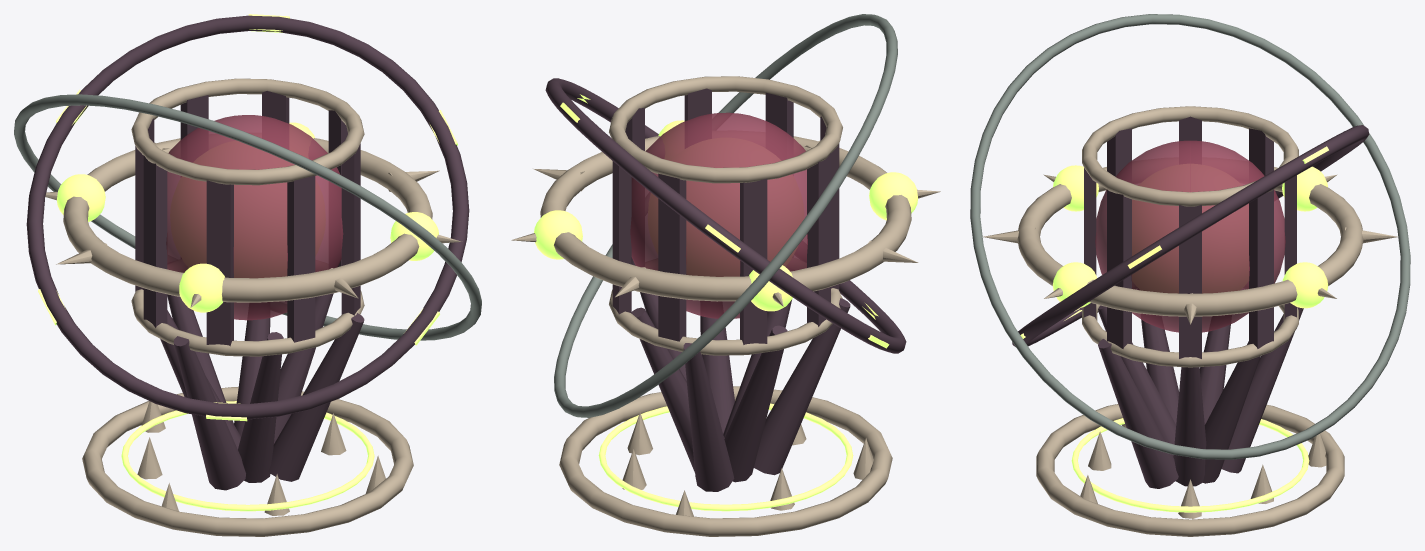
File: grafted-brood-core.glb
3 renders of one model, left to right at view 1: azimuth 30°, elevation 25°; view 2: azimuth 150°, elevation 25°; view 3: azimuth 270°, elevation 25°, orthographic. The views are drawn at different scales.
Visible parts, largest first — view 1: ring_b_band, heart_shell, ring_a_band, root_ring, ring_c_band, cage_crown, tendril_2, tendril_4, cage_rib_3, cage_rib_4, cage_base, cage_rib_5 (+18 smaller); view 2: heart_shell, ring_a_band, root_ring, ring_c_band, ring_b_band, cage_crown, tendril_4, tendril_6, tendril_5, cage_rib_7, cage_base, cage_rib_6 (+18 smaller); view 3: heart_shell, ring_c_band, ring_a_band, root_ring, ring_b_band, cage_crown, tendril_2, cage_base, cage_rib_8, tendril_1, tendril_7, tendril_6 (+17 smaller).
Part boxes in pixels (box(x1,y1,x2,y2)): ring_b_band: box(26, 15, 469, 419); heart_shell: box(166, 115, 343, 320); ring_a_band: box(63, 138, 432, 302); root_ring: box(82, 387, 413, 536); ring_c_band: box(14, 94, 481, 340); cage_crown: box(131, 78, 364, 185); tendril_2: box(268, 313, 364, 481); tendril_4: box(173, 336, 245, 490); cage_rib_3: box(287, 175, 315, 342); cage_rib_4: box(206, 180, 233, 346); cage_base: box(131, 289, 364, 356); cage_rib_5: box(143, 155, 167, 327); heart_shell: box(630, 112, 807, 318); ring_a_band: box(540, 136, 911, 301); root_ring: box(559, 386, 892, 536); ring_c_band: box(554, 14, 897, 417); ring_b_band: box(545, 78, 906, 353); cage_crown: box(609, 76, 842, 183); tendril_4: box(753, 298, 850, 475); tendril_6: box(683, 343, 734, 491); tendril_5: box(724, 325, 787, 482); cage_rib_7: box(658, 173, 686, 341); cage_base: box(609, 288, 842, 355); cage_rib_6: box(740, 178, 767, 344); heart_shell: box(1095, 140, 1285, 332); ring_c_band: box(970, 14, 1410, 459); ring_a_band: box(1017, 167, 1363, 316); root_ring: box(1036, 404, 1344, 536); ring_b_band: box(1012, 125, 1369, 346); cage_crown: box(1082, 106, 1298, 206); tendril_2: box(1098, 339, 1178, 488); cage_base: box(1082, 304, 1298, 367); cage_rib_8: box(1249, 189, 1273, 348); tendril_1: box(1173, 367, 1206, 486); tendril_7: box(1203, 341, 1260, 483); tendril_6: box(1221, 307, 1303, 473).
Size of the model in its own units: 5.4 by 5.69 by 5.7.
